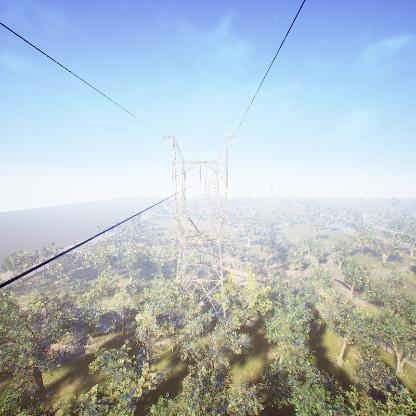tower: (160, 122, 236, 325)
